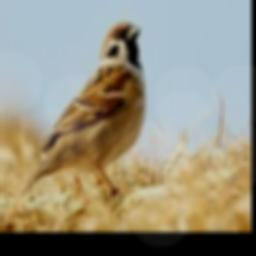Sparrow: (21, 22, 144, 197)
